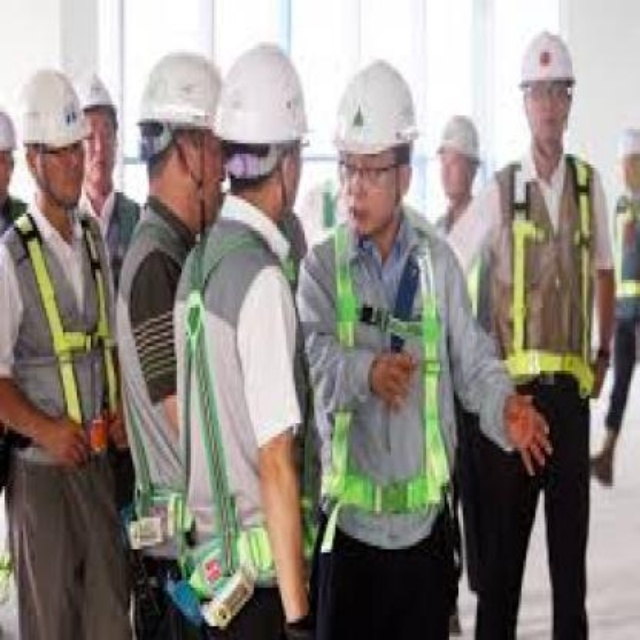Arnes_seguridad: (174, 213, 296, 631), (318, 221, 458, 554), (9, 214, 123, 467), (501, 142, 604, 402)
